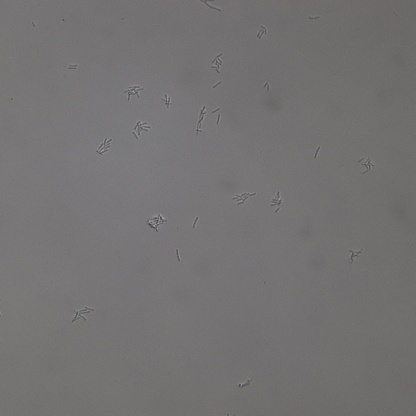R(colony): (232, 190, 256, 205), (132, 120, 150, 138), (73, 306, 94, 321), (148, 214, 166, 231), (124, 84, 144, 99), (196, 106, 207, 133), (96, 137, 111, 156), (358, 156, 374, 173), (271, 191, 283, 213), (212, 52, 224, 72), (349, 248, 363, 263), (162, 94, 173, 107), (236, 380, 251, 389), (256, 26, 266, 39), (262, 83, 270, 90)
